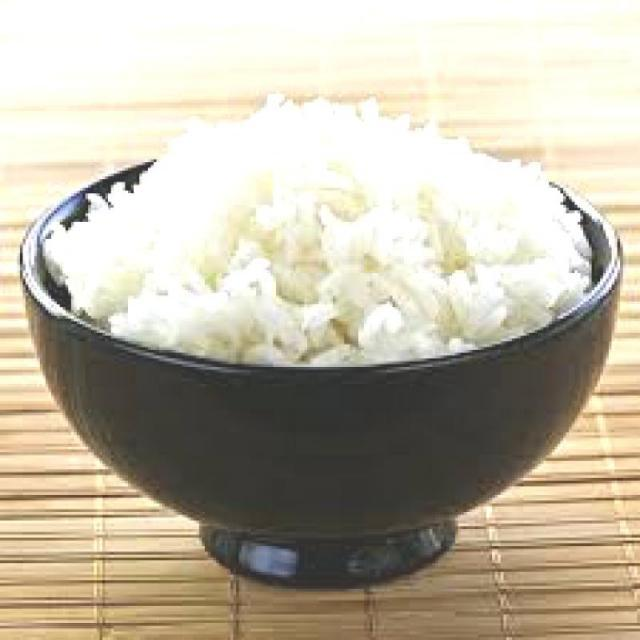rice: (42, 91, 595, 368)
